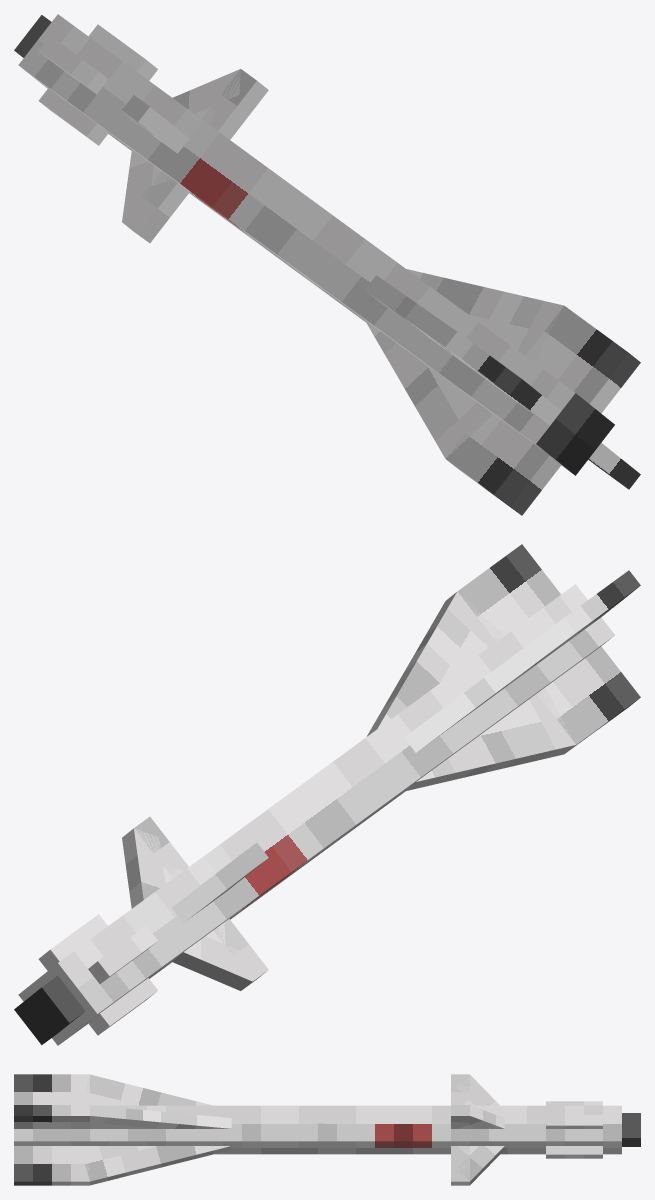
3 renders of one model, top to bottom at view 1: azimuth 30°, elevation 25°; view 2: azimuth 150°, elevation 25°; view 3: azimuth 270°, elevation 25°, orthographic. The views are drawn at different scales.
Visible parts, largest first — view 1: root (×16); view 2: root (×16); view 3: root (×17).
Part boxes in pixels (box(x1,y1,x2,y2)): root (×16): box(18, 14, 640, 515); root (×16): box(14, 544, 640, 1045); root (×17): box(14, 1074, 640, 1185).
Size of the model in its own units: 0.2917 by 0.2917 by 2.06.
1 material, 1 textured.
